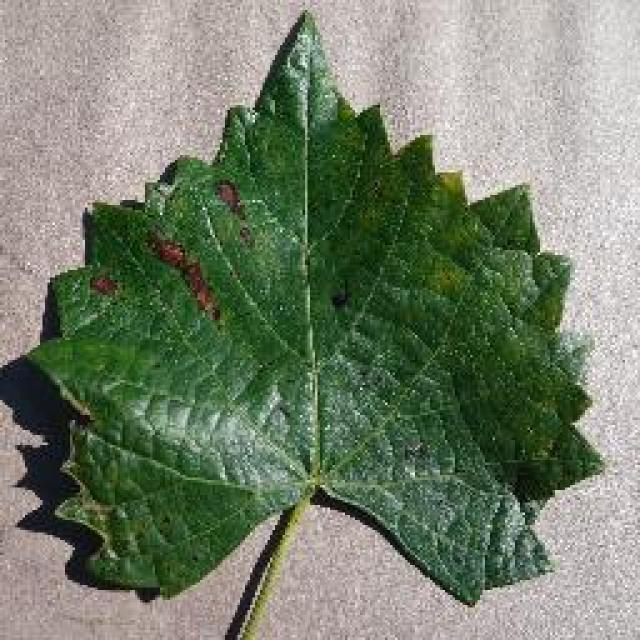Black_Measles: (22, 0, 632, 632)
